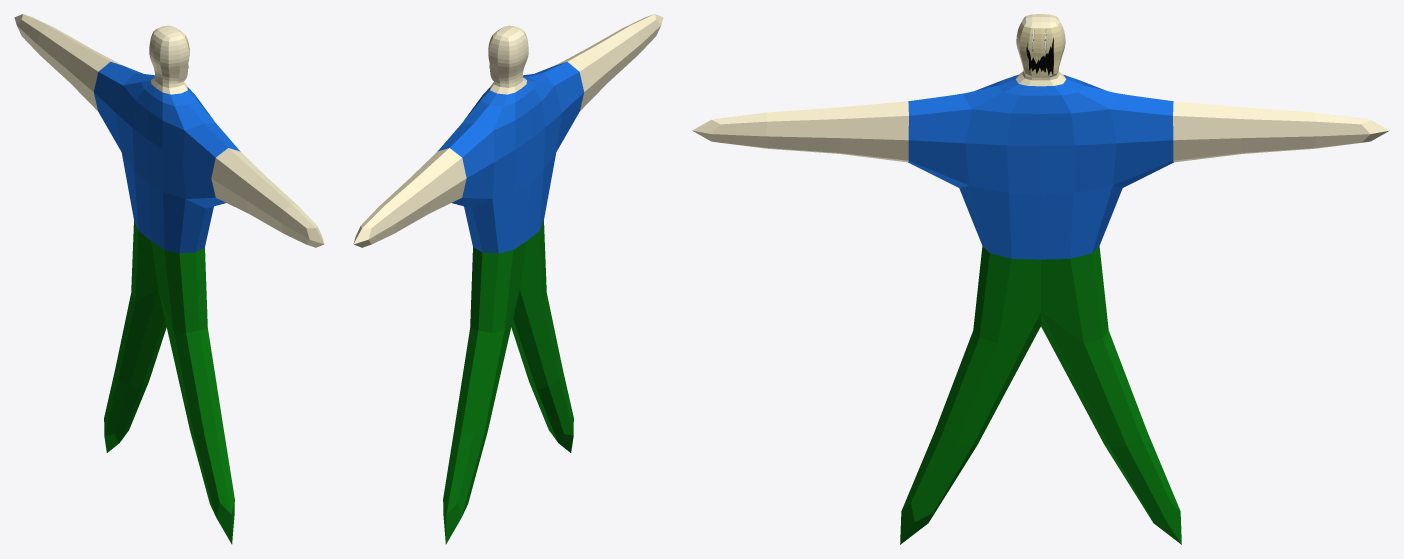
The model's file is посетитль3.fbx.
3 renders of one model, left to right at view 1: azimuth 30°, elevation 25°; view 2: azimuth 150°, elevation 25°; view 3: azimuth 270°, elevation 25°, orthographic. The views are drawn at different scales.
Visible parts, largest first — view 1: Cube; view 2: Cube; view 3: Cube.
Boxes of the visible parts, x1,y1,x2,y2 form: Cube: (14, 14, 324, 544); Cube: (353, 14, 663, 544); Cube: (692, 14, 1389, 544).
Size of the model in its own units: 139 by 1408 by 1686.
Materials: 4 (1 with a texture image).
